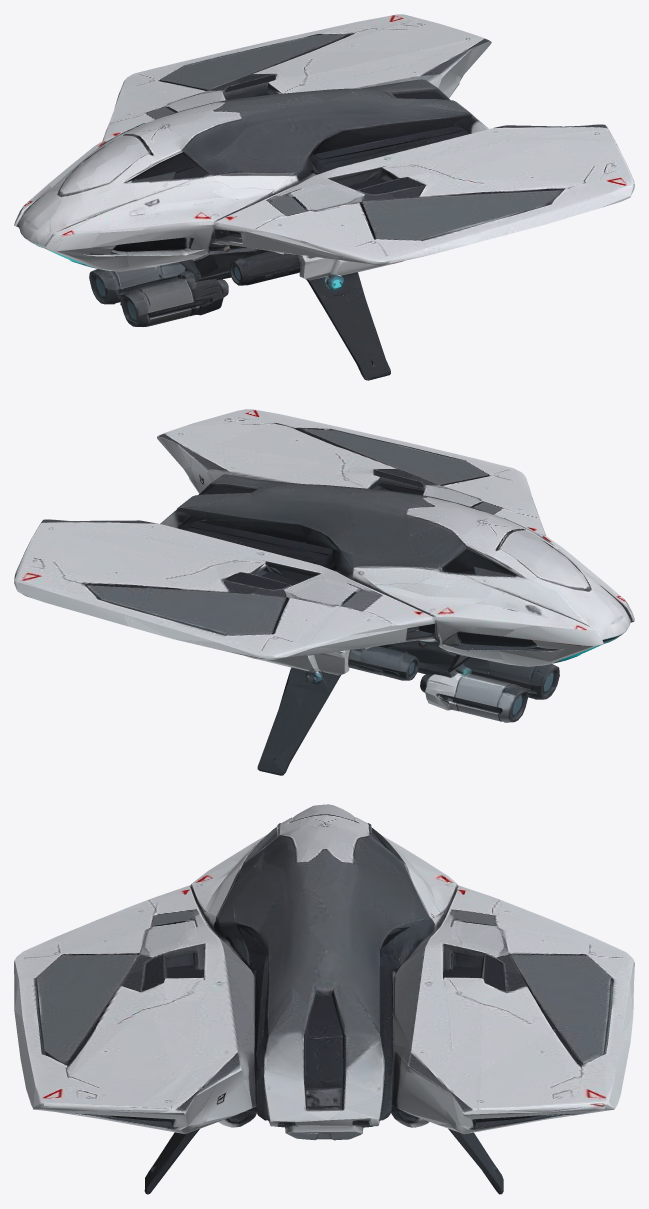
Rendered from d_laser.glb.
The picture shows the model from 3 angles, top to bottom: view 1: azimuth 30°, elevation 25°; view 2: azimuth 150°, elevation 25°; view 3: azimuth 270°, elevation 25°; orthographic projection. The views are drawn at different scales.
Bounding box in the file's own units: 1.9 × 0.8181 × 1.61.
Materials: 1 (1 with a texture image).
